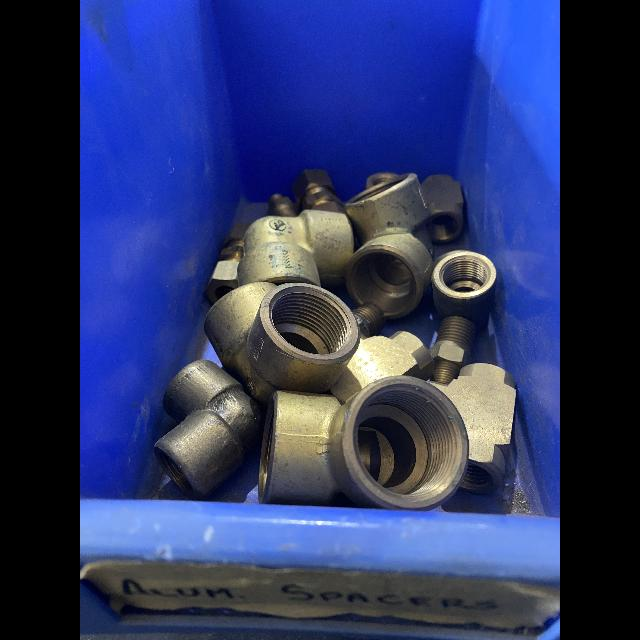Brass: (258, 375, 469, 511), (204, 282, 361, 409), (154, 358, 261, 502), (344, 173, 434, 319), (428, 363, 517, 494), (238, 209, 355, 286), (330, 331, 433, 402), (432, 250, 496, 326), (204, 223, 250, 304), (430, 316, 476, 385), (421, 174, 464, 242), (291, 170, 346, 213), (353, 303, 385, 338), (268, 194, 297, 216), (366, 172, 399, 189)
